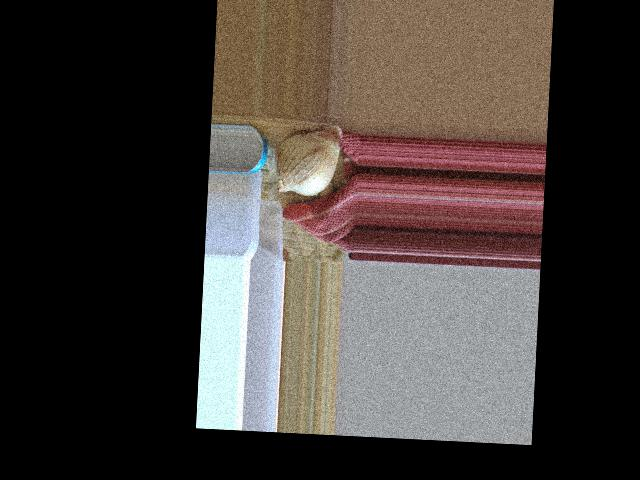onion: (272, 123, 343, 196)
